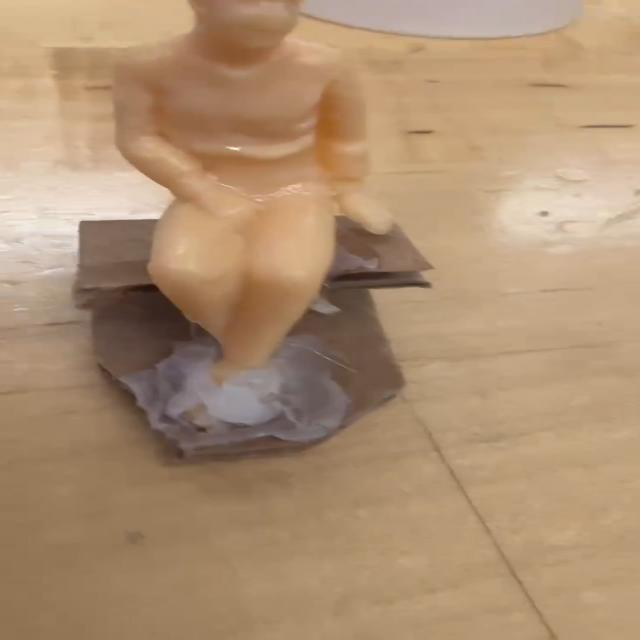Unauthorized: (98, 3, 402, 405)
